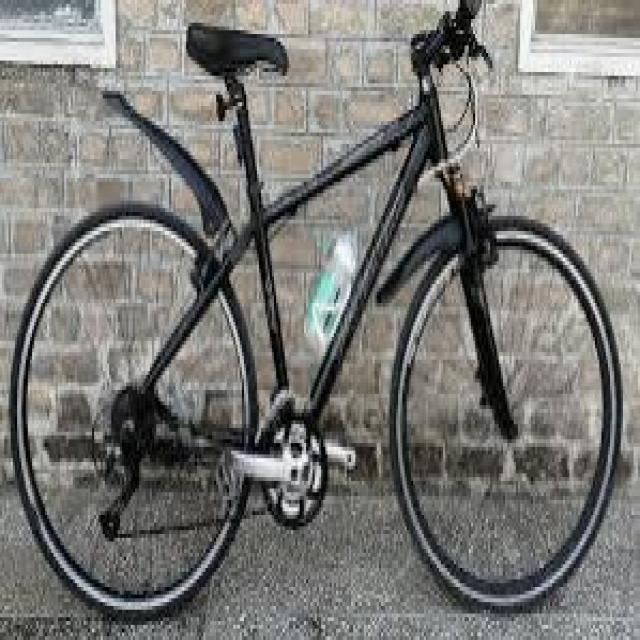bicycle: (1, 9, 607, 596)
